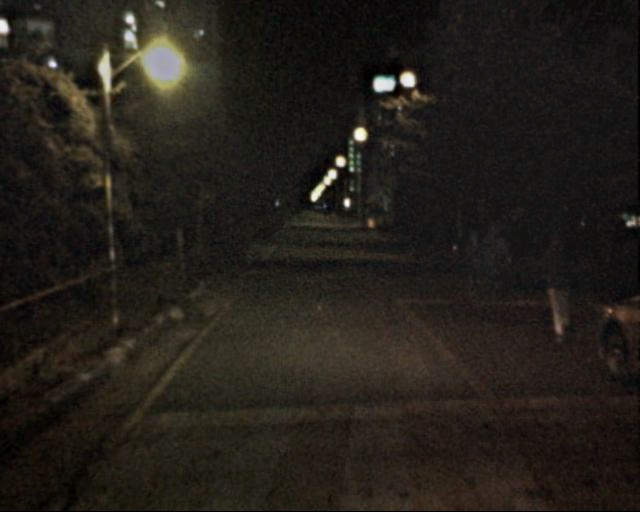person: (538, 230, 584, 341), (483, 221, 519, 298), (460, 227, 496, 302)
